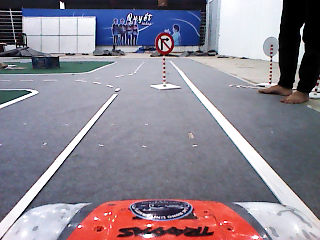ban: (154, 32, 175, 56)
